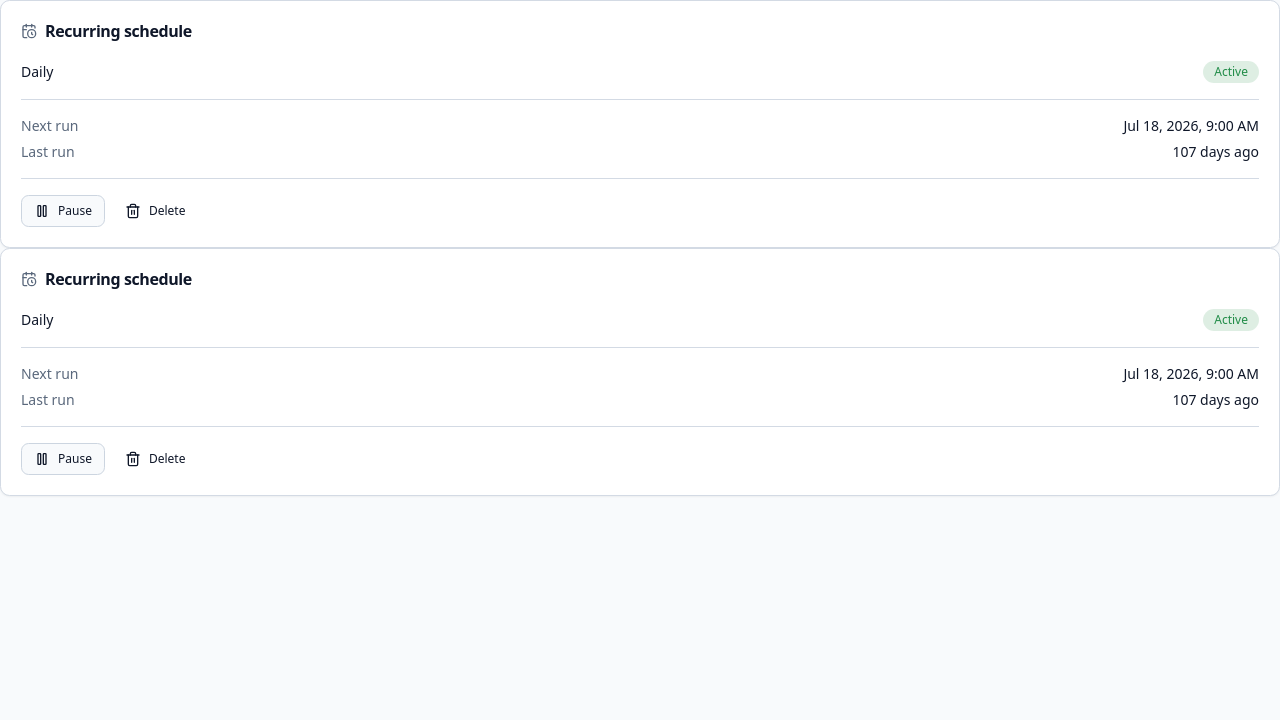
Scenario: SchedulePanel isolation (SB-D) › keeps a lifecycle action scoped to the acting market
Expected: the 1st text "Active" is shown, [1203, 61, 1259, 83]
Expected: the 2nd text "Active" is shown, [1203, 309, 1259, 331]
Click the 1st button "Pause".
click(63, 211)  # box [21, 195, 105, 227]
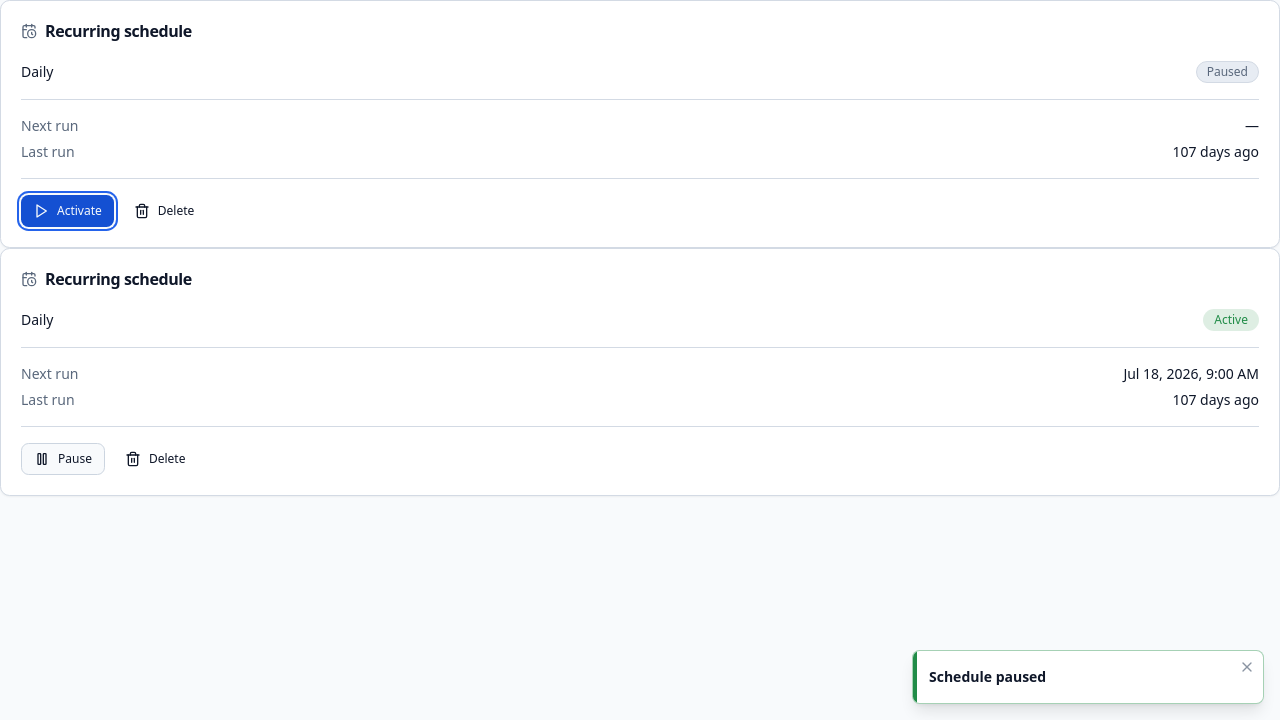
Expected: the text "Active" is shown, [1203, 309, 1259, 331]
Expected: the text "Paused" is shown, [1196, 61, 1259, 83]
